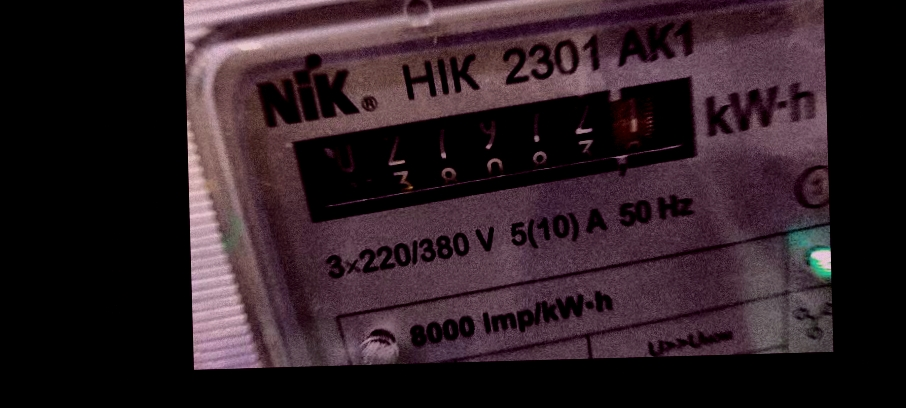0: (330, 137, 359, 174)
1: (622, 92, 645, 136)
2: (379, 127, 409, 167), (568, 98, 597, 135)
7: (522, 104, 549, 146), (429, 123, 453, 160)
9: (476, 114, 503, 150)
screen: (275, 66, 731, 232)
